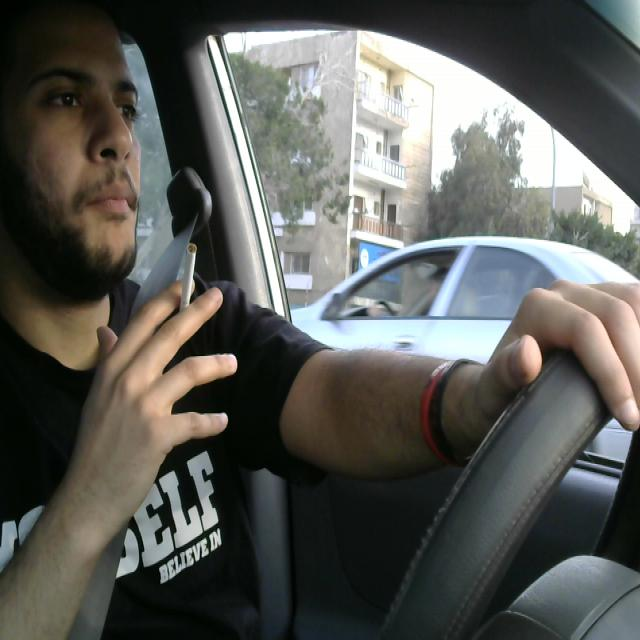smoking: (174, 239, 196, 332)
